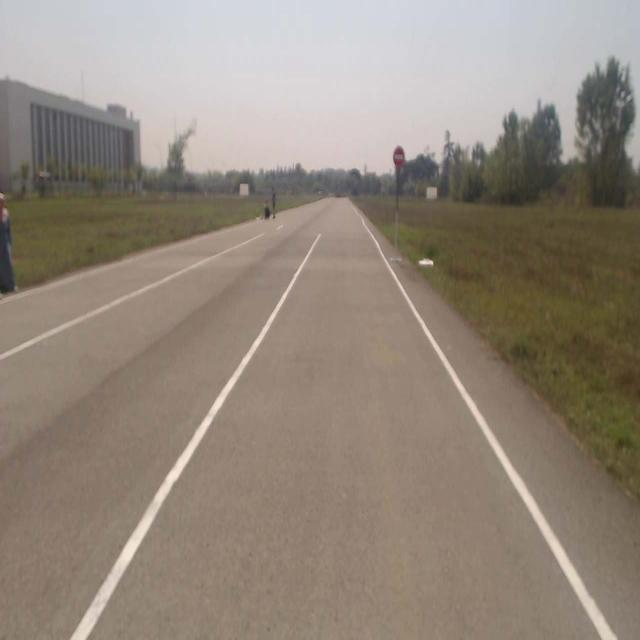girisyok: (394, 147, 404, 167)
